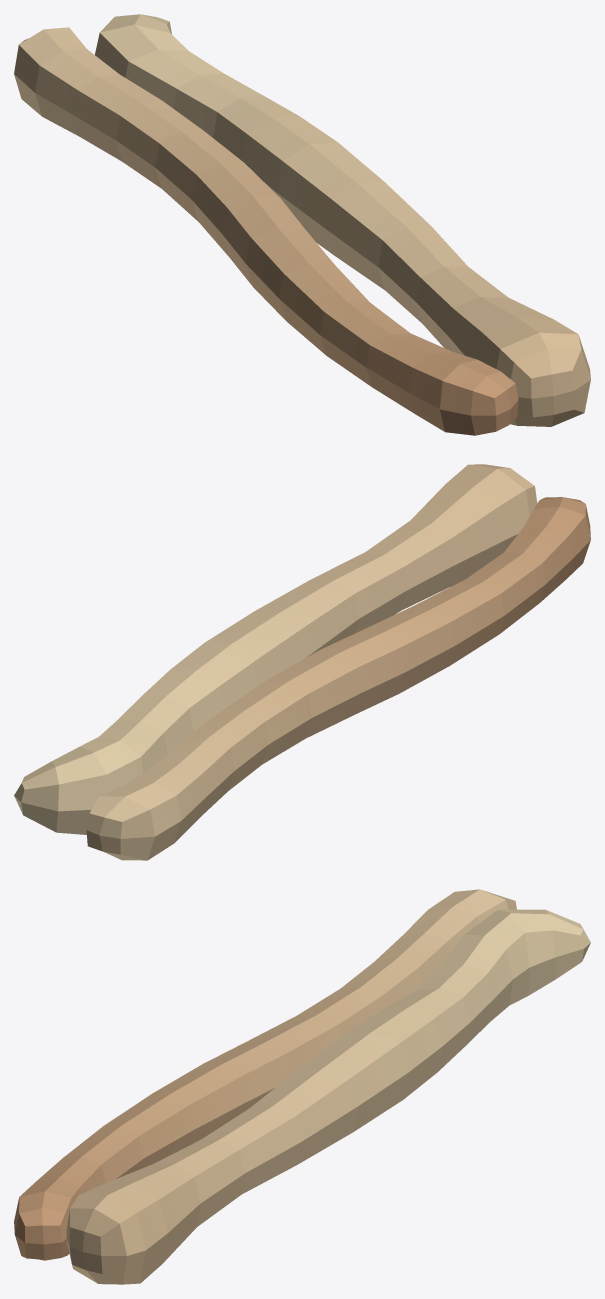
File: ulna.fbx
3 renders of one model, top to bottom at view 1: azimuth 30°, elevation 25°; view 2: azimuth 150°, elevation 25°; view 3: azimuth 330°, elevation 25°, orthographic. The views are drawn at different scales.
Visible parts, largest first — view 1: UlnaLeft; view 2: UlnaLeft; view 3: UlnaLeft.
Boxes of the visible parts, x1=… form: UlnaLeft: x1=14, y1=14, x2=590, y2=435; UlnaLeft: x1=14, y1=464, x2=590, y2=860; UlnaLeft: x1=14, y1=889, x2=590, y2=1284.
Size of the model in its own units: 7.78 by 3.75 by 35.34.
